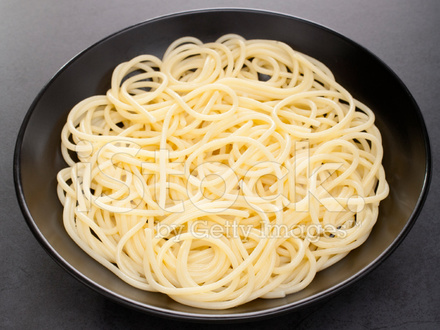plain spaghetti: (74, 56, 368, 289)
